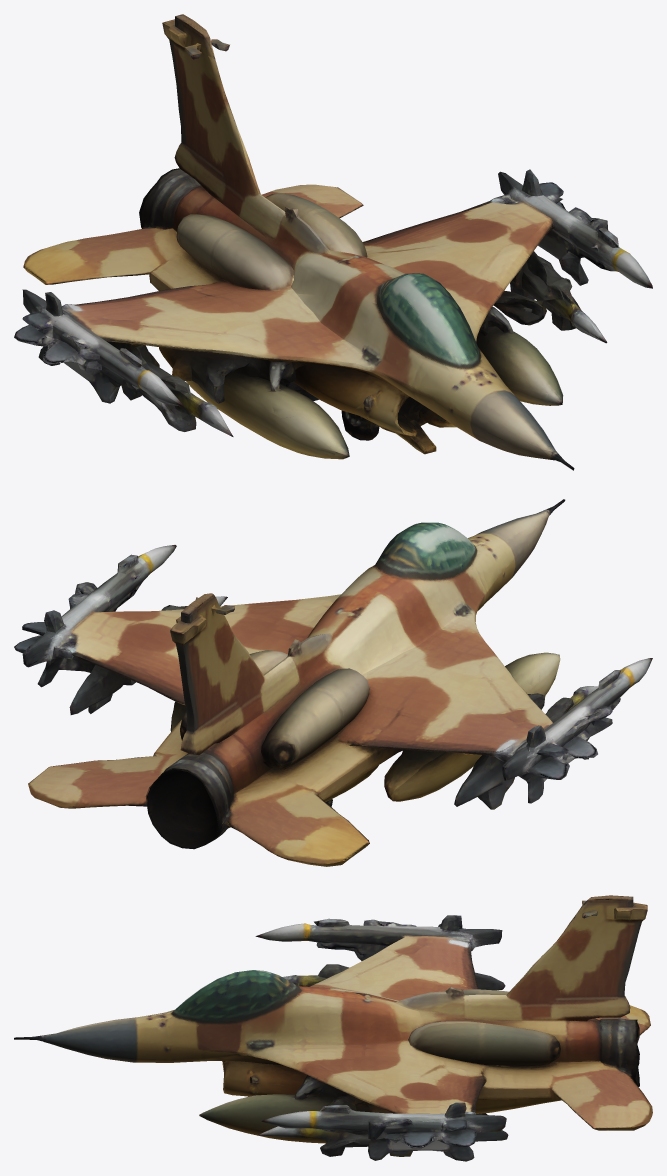
Rendered from unit_jet_f16.glb.
The picture shows the model from 3 angles, top to bottom: view 1: azimuth 30°, elevation 25°; view 2: azimuth 150°, elevation 25°; view 3: azimuth 270°, elevation 25°; orthographic projection. The views are drawn at different scales.
Parts seen in each view (by area): view 1: geometry_0; view 2: geometry_0; view 3: geometry_0.
Part boxes in pixels (<box>): geometry_0: <box>14,14,652,470</box>; geometry_0: <box>14,499,652,866</box>; geometry_0: <box>14,895,652,1161</box>.
Size of the model in its own units: 0.4377 by 0.2236 by 0.5508.
Materials: 1 (1 with a texture image).
